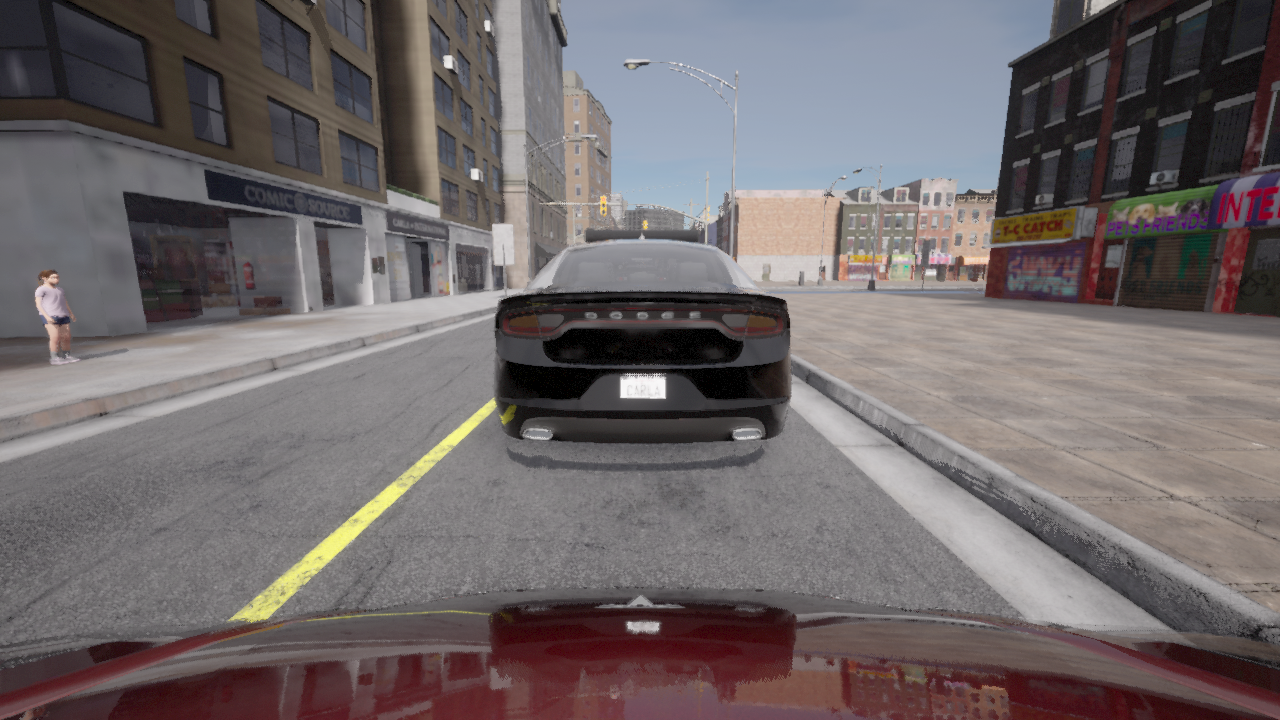cyclist: (0, 588, 1279, 719), (494, 228, 790, 443)
pedestrian: (34, 269, 80, 363)
